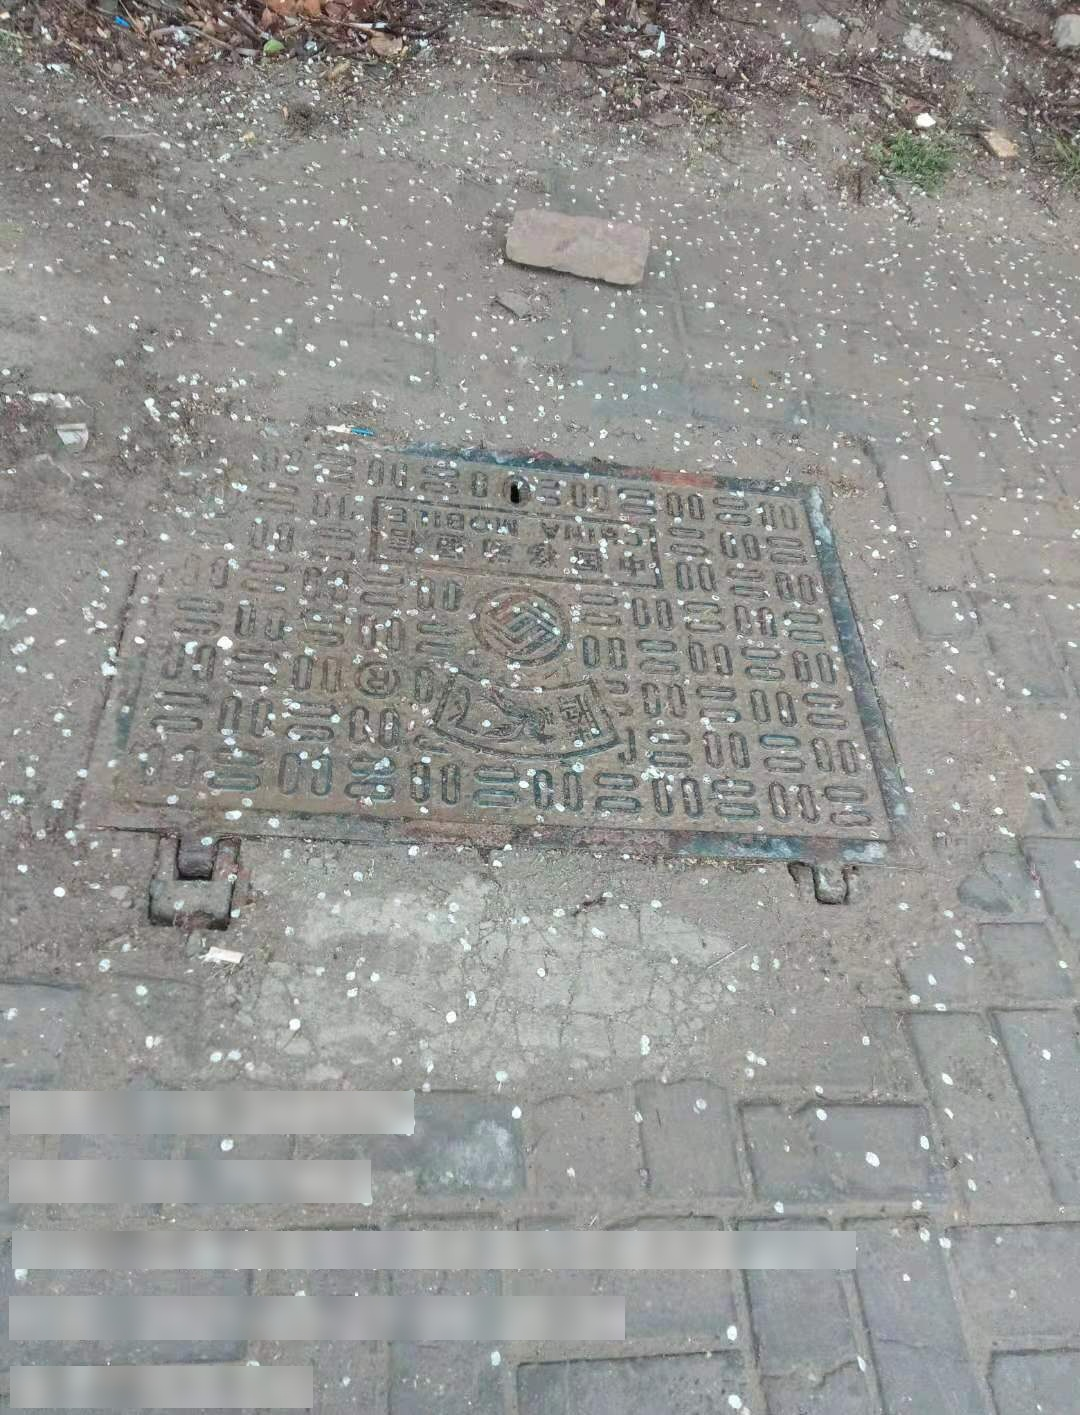good: (71, 427, 914, 924)
